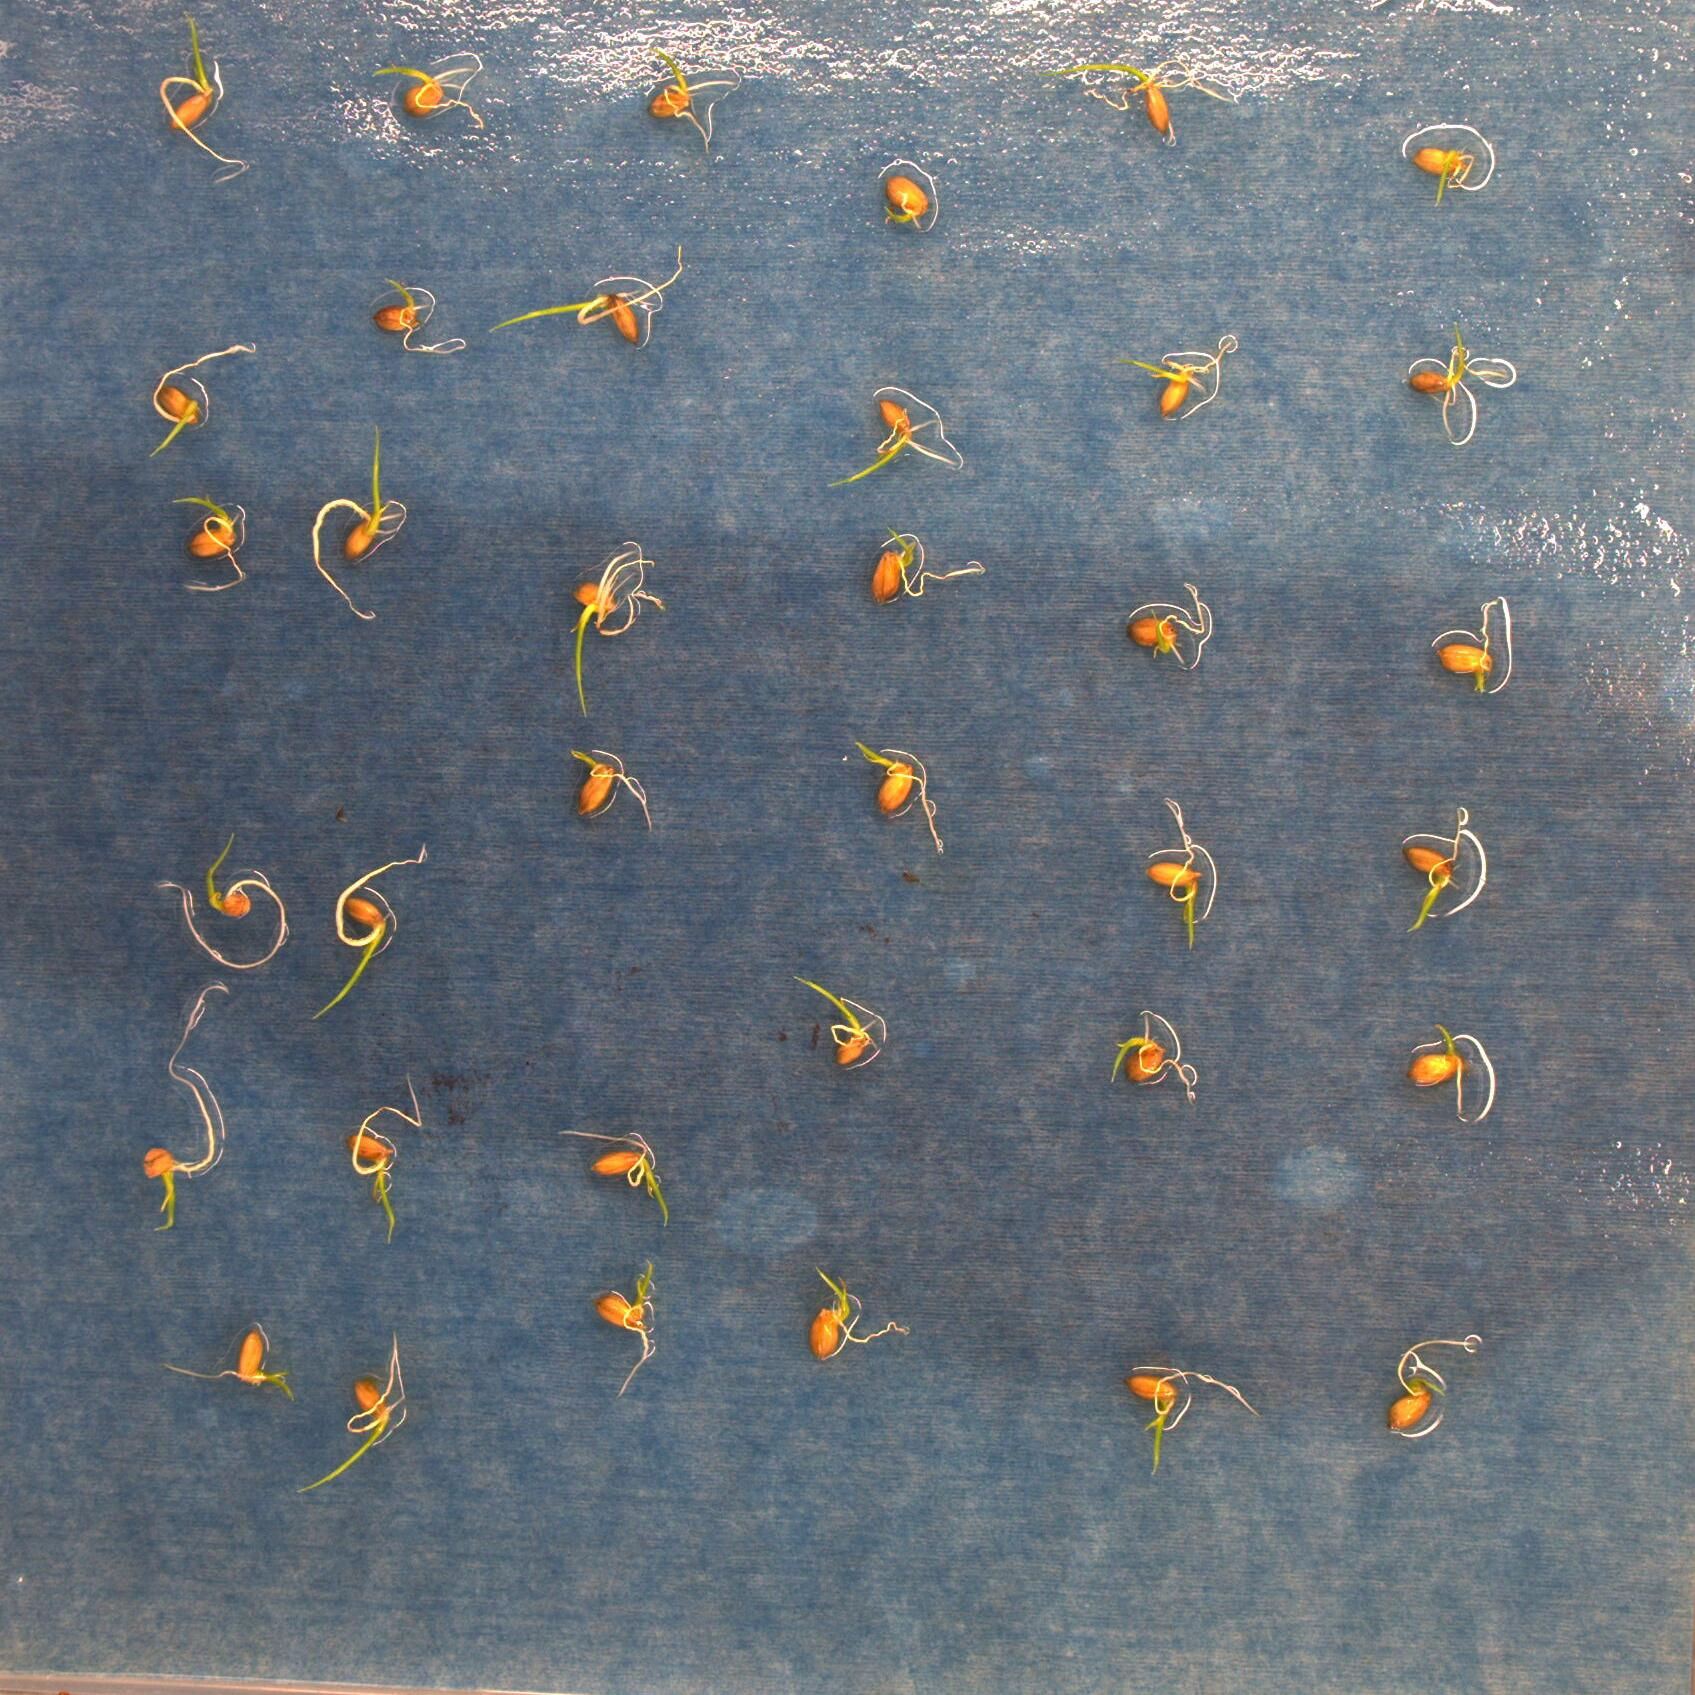not sprout: (1433, 594, 1518, 703), (366, 264, 456, 366), (1139, 337, 1222, 438), (1412, 146, 1487, 217), (875, 168, 947, 236)
sprout: (137, 976, 255, 1248), (470, 237, 695, 362), (149, 837, 306, 978), (310, 414, 411, 629), (328, 1069, 438, 1257), (317, 838, 428, 1021), (298, 1330, 414, 1496), (1121, 1357, 1267, 1481), (161, 3, 258, 189), (1124, 782, 1225, 951), (154, 328, 261, 473), (557, 520, 667, 641), (846, 730, 947, 860), (557, 1121, 678, 1229), (861, 508, 976, 618), (1066, 54, 1226, 133), (782, 1257, 906, 1358), (365, 50, 495, 143), (1400, 799, 1482, 945), (581, 1256, 666, 1394), (635, 50, 747, 154), (1385, 360, 1503, 456), (1380, 1346, 1473, 1464), (183, 467, 259, 612), (799, 969, 889, 1090), (1125, 588, 1222, 694), (871, 369, 951, 483), (166, 1332, 304, 1395), (1116, 1012, 1198, 1114), (1405, 1029, 1496, 1108), (556, 739, 638, 826)
